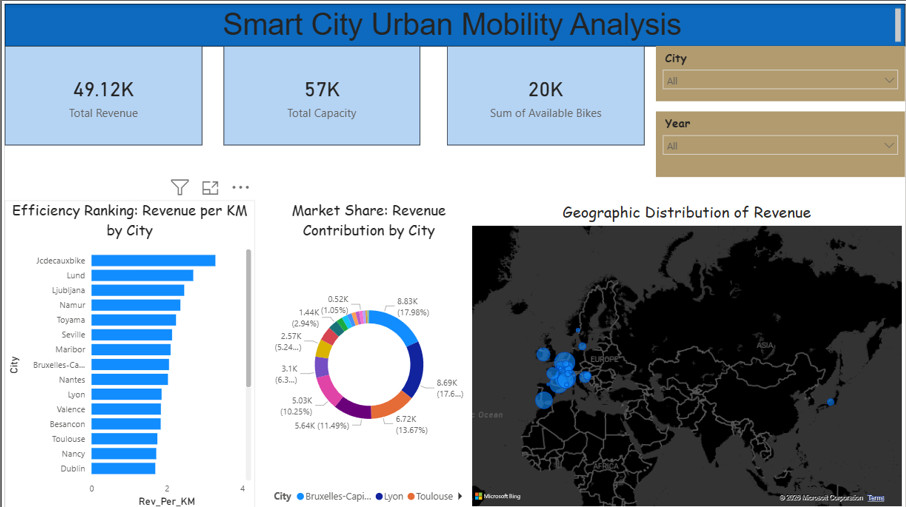

The page's visual inventory and layout, read from the dashboard file:
{"tool":"powerbi","page":{"name":"Page 1","canvas":[1280,720],"ordinal":0},"visuals":[{"type":"textbox","box":[0,0,1279.4,60.5],"z":2000},{"type":"card","fields":{"Values":["Fact_BikeData.Total Revenue"]},"box":[0,59.8,280.8,141.2],"z":3000},{"type":"card","fields":{"Values":["Fact_BikeData.Total Capacity"]},"box":[310.7,59.8,279.2,141.2],"z":4000},{"type":"card","fields":{"Values":["Sum(Fact_BikeData.Available Bikes)"]},"box":[628.1,59.8,280.8,141.2],"z":5000},{"type":"clusteredBarChart","title":"Efficiency Ranking: Revenue per KM by City","fields":{"Category":["Dim_City.City"],"Y":["Fact_BikeData.Rev_Per_KM"]},"box":[0,279.5,355.3,440.5],"z":6000},{"type":"map","title":"Geographic Distribution of Revenue","fields":{"Category":["Dim_City.City"],"Size":["Fact_BikeData.Total Revenue"]},"box":[658,280.8,621.4,438.7],"z":7000},{"type":"slicer","title":"C","fields":{"Values":["Dim_City.City"]},"box":[925.2,60.6,354.3,78.7],"z":8000},{"type":"slicer","fields":{"Values":["Dim_Date.Year"]},"box":[925.3,153.2,353.7,93.2],"z":9000},{"type":"donutChart","title":"Market Share: Revenue Contribution by City","fields":{"Y":["Fact_BikeData.Total Revenue"],"Category":["Dim_City.City"]},"box":[377.6,280.1,280.1,440.2],"z":10000}]}

Visuals, with their boxes in screenshot pixels (x1, y1, x2, y2), scaled from the page's 1280x720 canvas onto the 906x507 screenshot:
textbox: Rect(0, 0, 905, 43)
card - Fact_BikeData.Total Revenue: Rect(0, 42, 199, 142)
card - Fact_BikeData.Total Capacity: Rect(220, 42, 418, 142)
card - Sum(Fact_BikeData.Available Bikes): Rect(445, 42, 643, 142)
"Efficiency Ranking: Revenue per KM by City" clusteredBarChart: Rect(0, 197, 251, 506)
"Geographic Distribution of Revenue" map: Rect(466, 198, 905, 506)
"C" slicer: Rect(655, 43, 905, 98)
slicer - Dim_Date.Year: Rect(655, 108, 905, 174)
"Market Share: Revenue Contribution by City" donutChart: Rect(267, 197, 466, 506)
